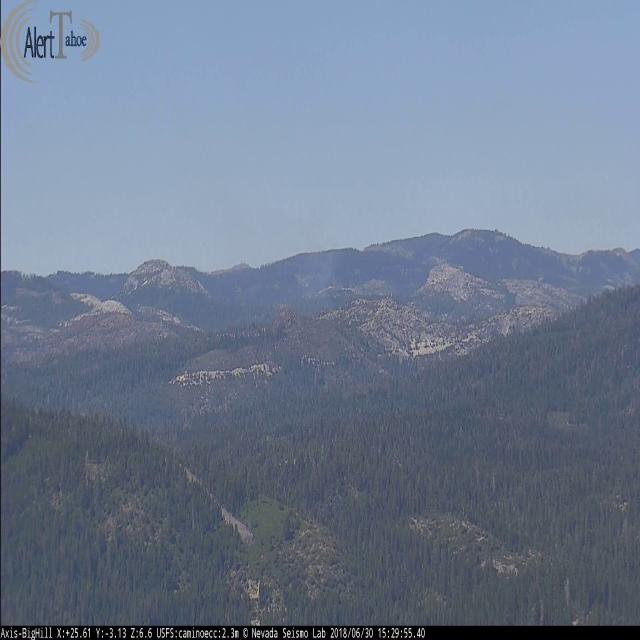smoke: (293, 225, 340, 305)
